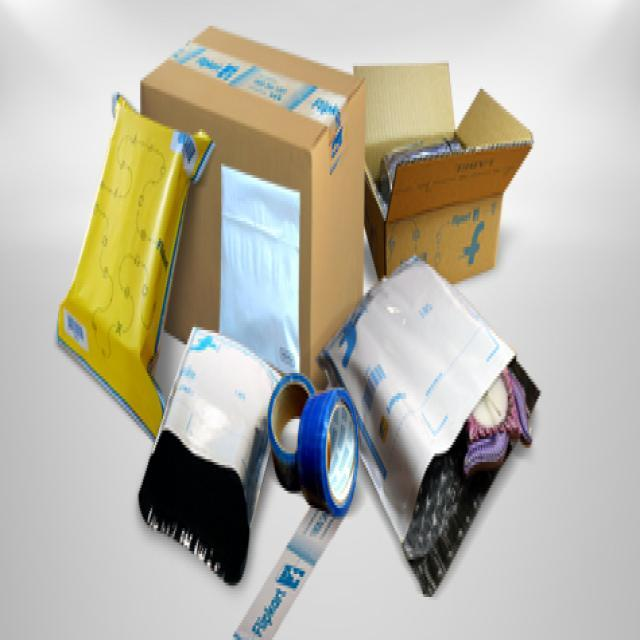cardboxes: (314, 232, 547, 598), (49, 92, 224, 438), (134, 316, 286, 588)
